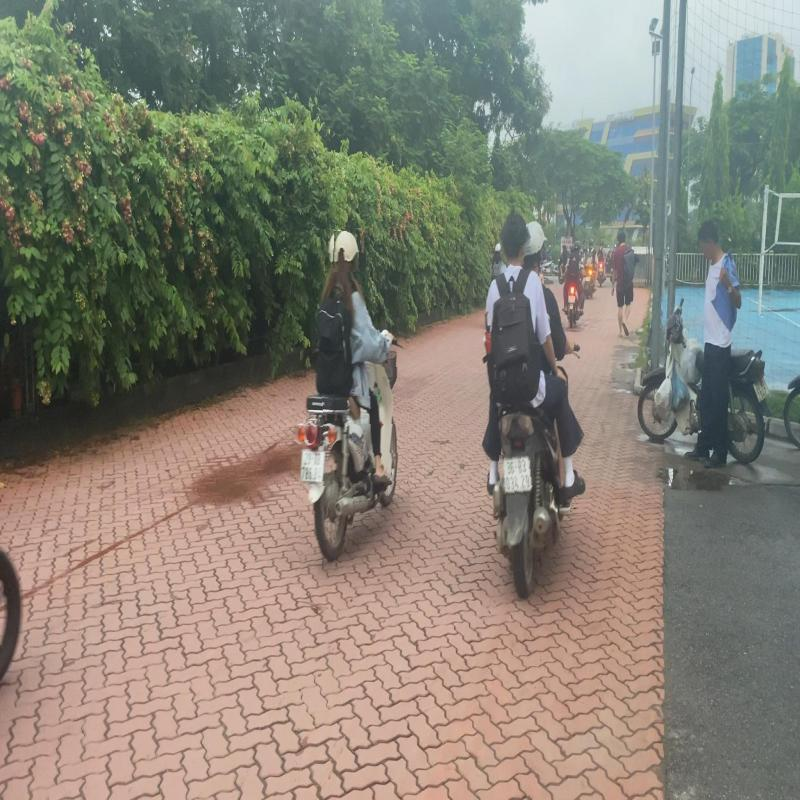helmet: (525, 220, 548, 268), (334, 231, 360, 272)
licenseplate: (499, 453, 535, 494), (298, 446, 328, 486)
motorcyclist: (477, 204, 586, 602), (292, 228, 410, 564)
nohelmet: (500, 208, 528, 262)
